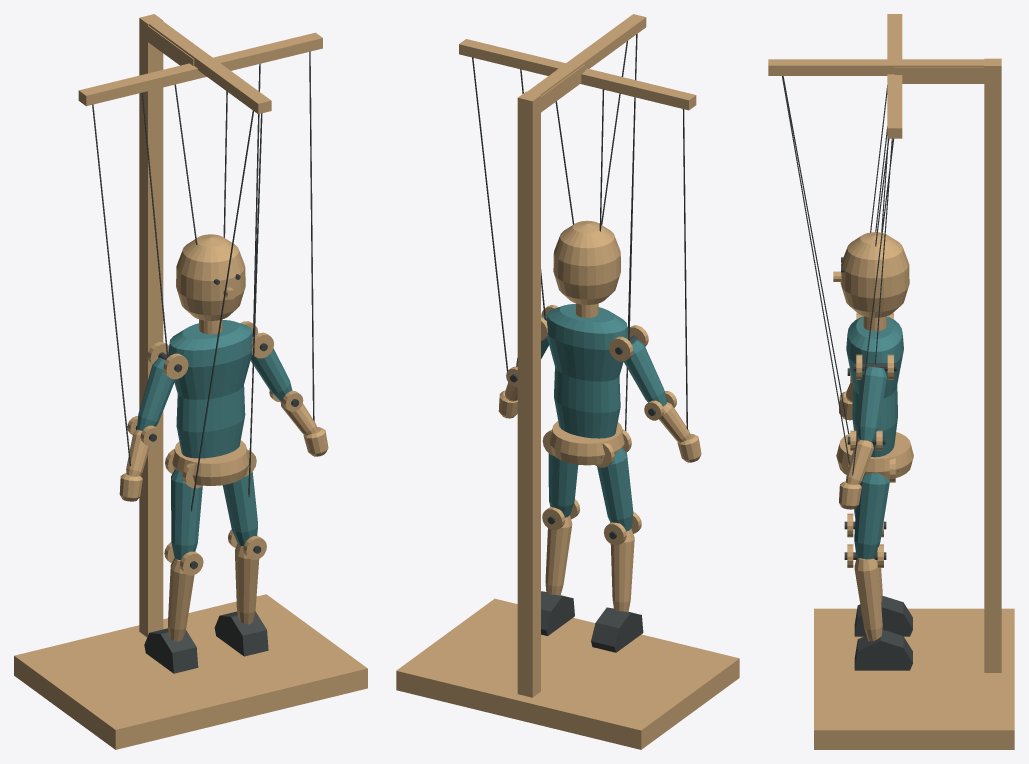
3 views of the same model, side by side, from view 1: azimuth 30°, elevation 25°; view 2: azimuth 150°, elevation 25°; view 3: azimuth 270°, elevation 25° (orthographic). The views are drawn at different scales.
Visible parts, largest first — view 1: WholeDisplayGroundFoot, WholeRearDisplayPost, WholeTaperedWoodTorso, WholeRoundedToyHead, WholeTransverseWoodControlBar, WholeForeAftWoodControlBar, LeftWholeUpperLeg, WholeWoodPelvis, RightWholeUpperLeg, LeftWholeWoodShoe, RightWholeWoodShoe, LeftWholeLowerLeg (+9 smaller); view 2: WholeDisplayGroundFoot, WholeRearDisplayPost, WholeTaperedWoodTorso, WholeRoundedToyHead, WholeTransverseWoodControlBar, WholeForeAftWoodControlBar, LeftWholeUpperLeg, WholeWoodPelvis, LeftWholeWoodShoe, LeftWholeLowerLeg, RightWholeLowerLeg, RightWholeUpperLeg (+6 smaller); view 3: WholeDisplayGroundFoot, WholeRearDisplayPost, WholeRoundedToyHead, WholeTaperedWoodTorso, WholeForeAftWoodControlBar, RightWholeUpperLeg, RightWholeWoodShoe, WholeTransverseWoodControlBar, RightWholeLowerLeg, RightWholeUpperArm, WholeWoodPelvis, WholeUpperControlSupport (+6 smaller).
Part boxes in pixels (x1,y1,x2,y2): WholeDisplayGroundFoot: (14, 594, 367, 749); WholeRearDisplayPost: (139, 14, 163, 636); WholeTaperedWoodTorso: (168, 320, 252, 458); WholeRoundedToyHead: (176, 234, 245, 320); WholeTransverseWoodControlBar: (78, 32, 322, 106); WholeForeAftWoodControlBar: (149, 20, 271, 114); LeftWholeUpperLeg: (171, 469, 202, 560); WholeWoodPelvis: (172, 440, 249, 485); RightWholeUpperLeg: (222, 472, 257, 546); LeftWholeWoodShoe: (144, 628, 198, 673); RightWholeWoodShoe: (214, 611, 268, 656); LeftWholeLowerLeg: (168, 558, 194, 641); WholeDisplayGroundFoot: (396, 598, 739, 749); WholeRearDisplayPost: (517, 91, 540, 697); WholeTaperedWoodTorso: (546, 304, 628, 438); WholeRoundedToyHead: (553, 220, 620, 304); WholeTransverseWoodControlBar: (459, 39, 696, 110); WholeForeAftWoodControlBar: (527, 14, 646, 95); LeftWholeUpperLeg: (597, 448, 633, 531); WholeWoodPelvis: (549, 421, 624, 465); LeftWholeWoodShoe: (591, 607, 643, 652); LeftWholeLowerLeg: (610, 528, 634, 612); RightWholeLowerLeg: (545, 515, 572, 595); RightWholeUpperLeg: (548, 453, 578, 517); WholeDisplayGroundFoot: (814, 608, 1014, 749); WholeRearDisplayPost: (984, 58, 1001, 672); WholeRoundedToyHead: (840, 232, 909, 317); WholeTaperedWoodTorso: (846, 316, 903, 457); WholeForeAftWoodControlBar: (768, 59, 986, 75); RightWholeUpperLeg: (854, 473, 889, 559); RightWholeWoodShoe: (854, 629, 912, 670); WholeTransverseWoodControlBar: (887, 14, 902, 138); RightWholeLowerLeg: (854, 558, 882, 641); RightWholeUpperArm: (857, 366, 886, 441); WholeWoodPelvis: (836, 432, 913, 479); WholeUpperControlSupport: (894, 67, 992, 83).
Bounding box in the file's own units: 0.66 × 1.59 × 0.565.
